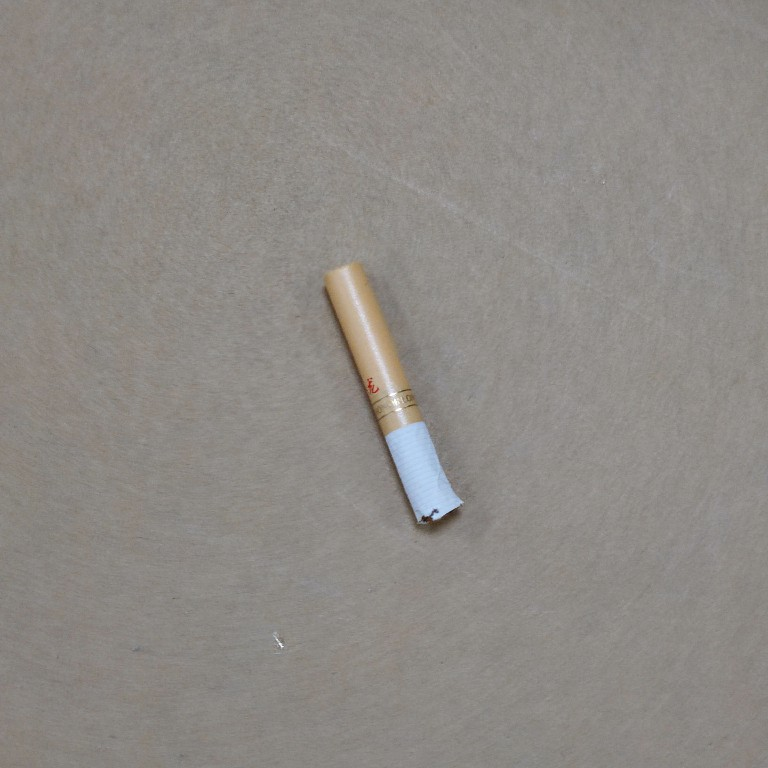cigarette: (312, 255, 475, 535)
